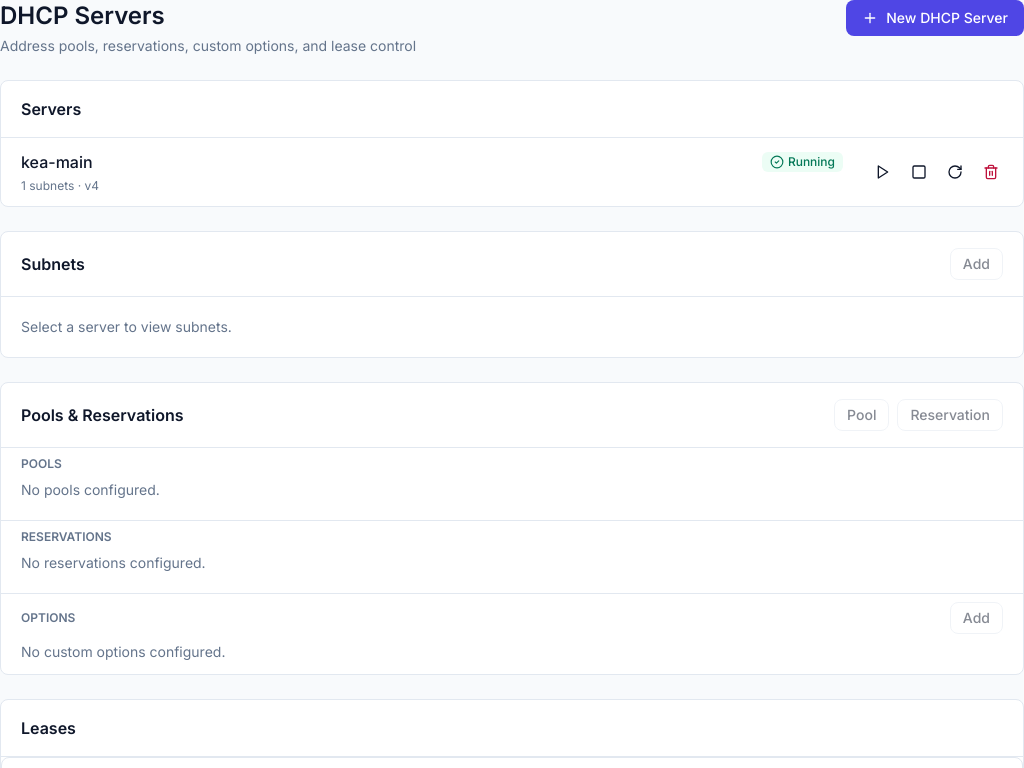
Test case: DHCP Management page › Start server opens ConfirmDialog before firing
Expected: the text "kea-main" is shown, [21, 150, 93, 174]
Click the button named "Start server" at (883, 172), box [867, 156, 899, 188]
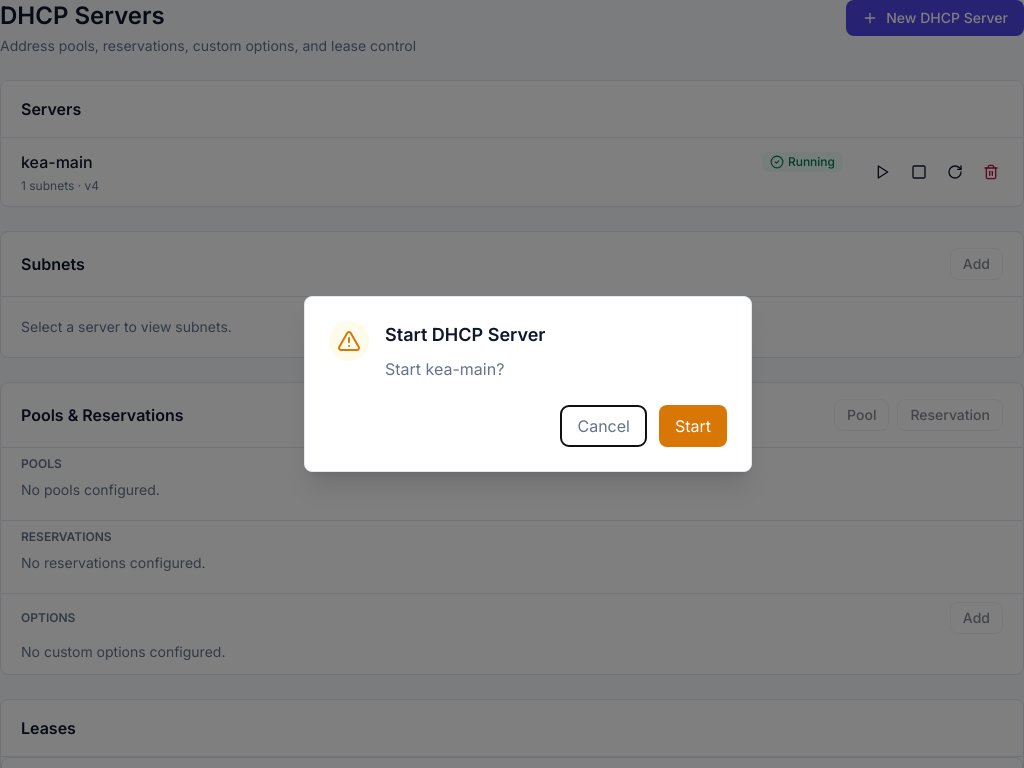
Now the dialog is shown, box [304, 296, 752, 472]
